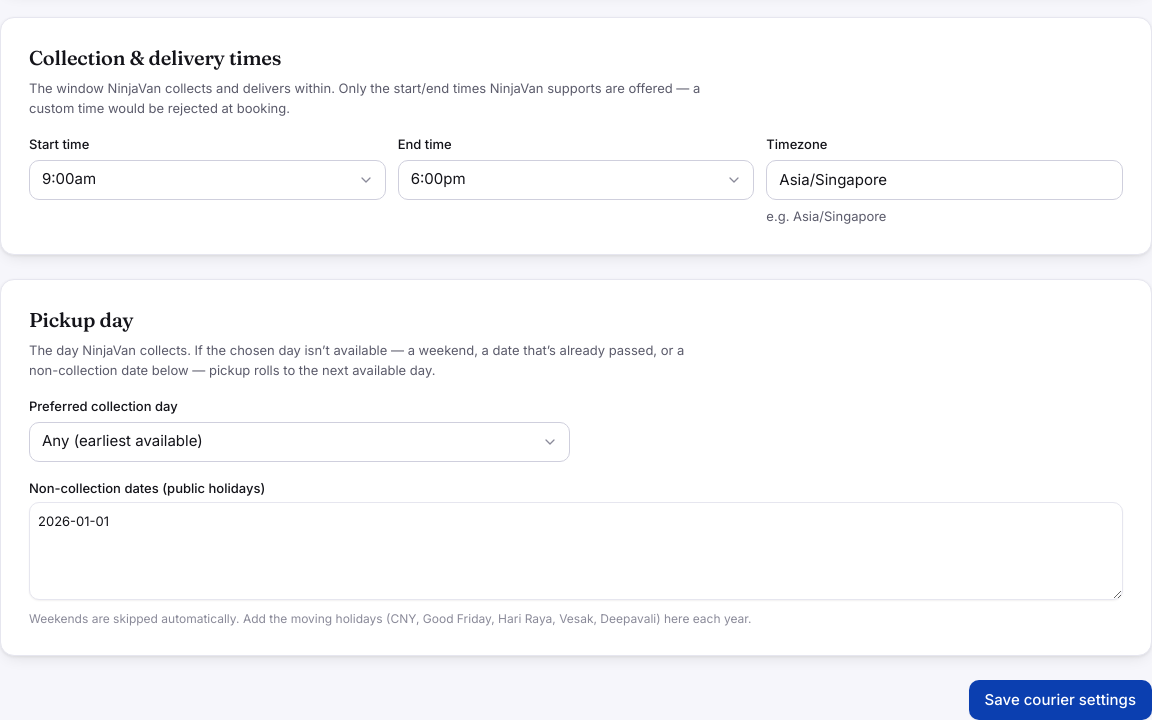
it: surfaces server validation errors inline
(page scrolled)
Click the button "Save courier settings".
click(1060, 700)  # box [969, 680, 1151, 719]
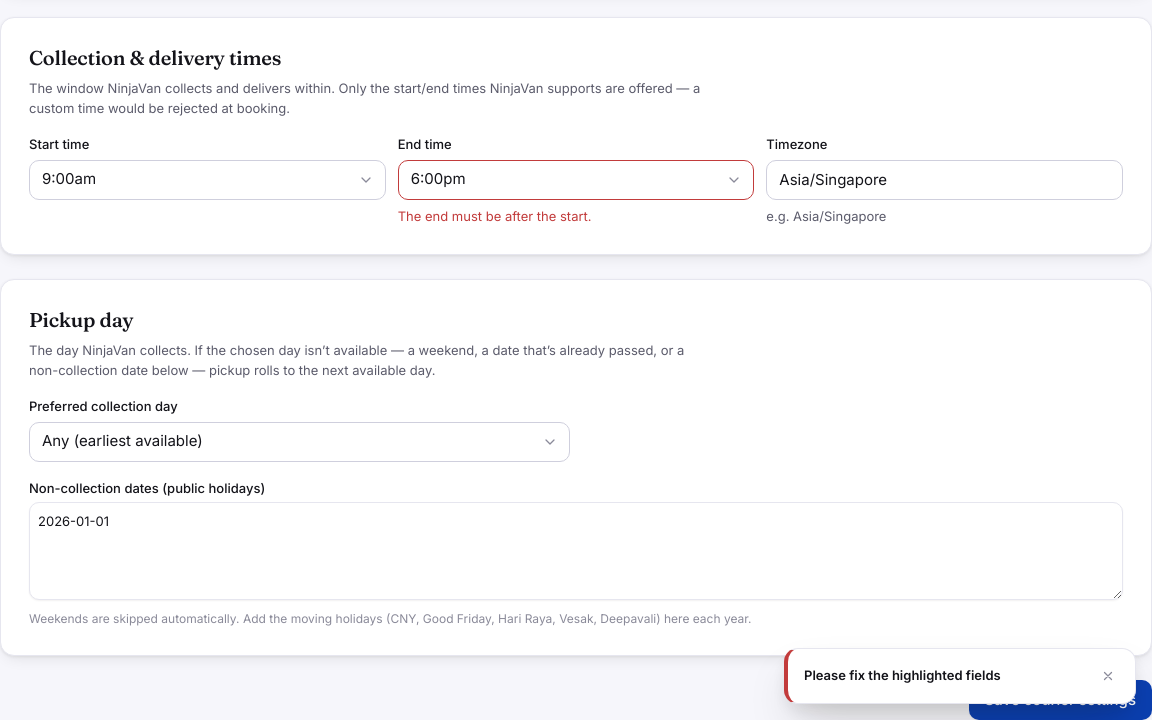
Expected: the text "The end must be after the start." is shown, [398, 208, 592, 224]
